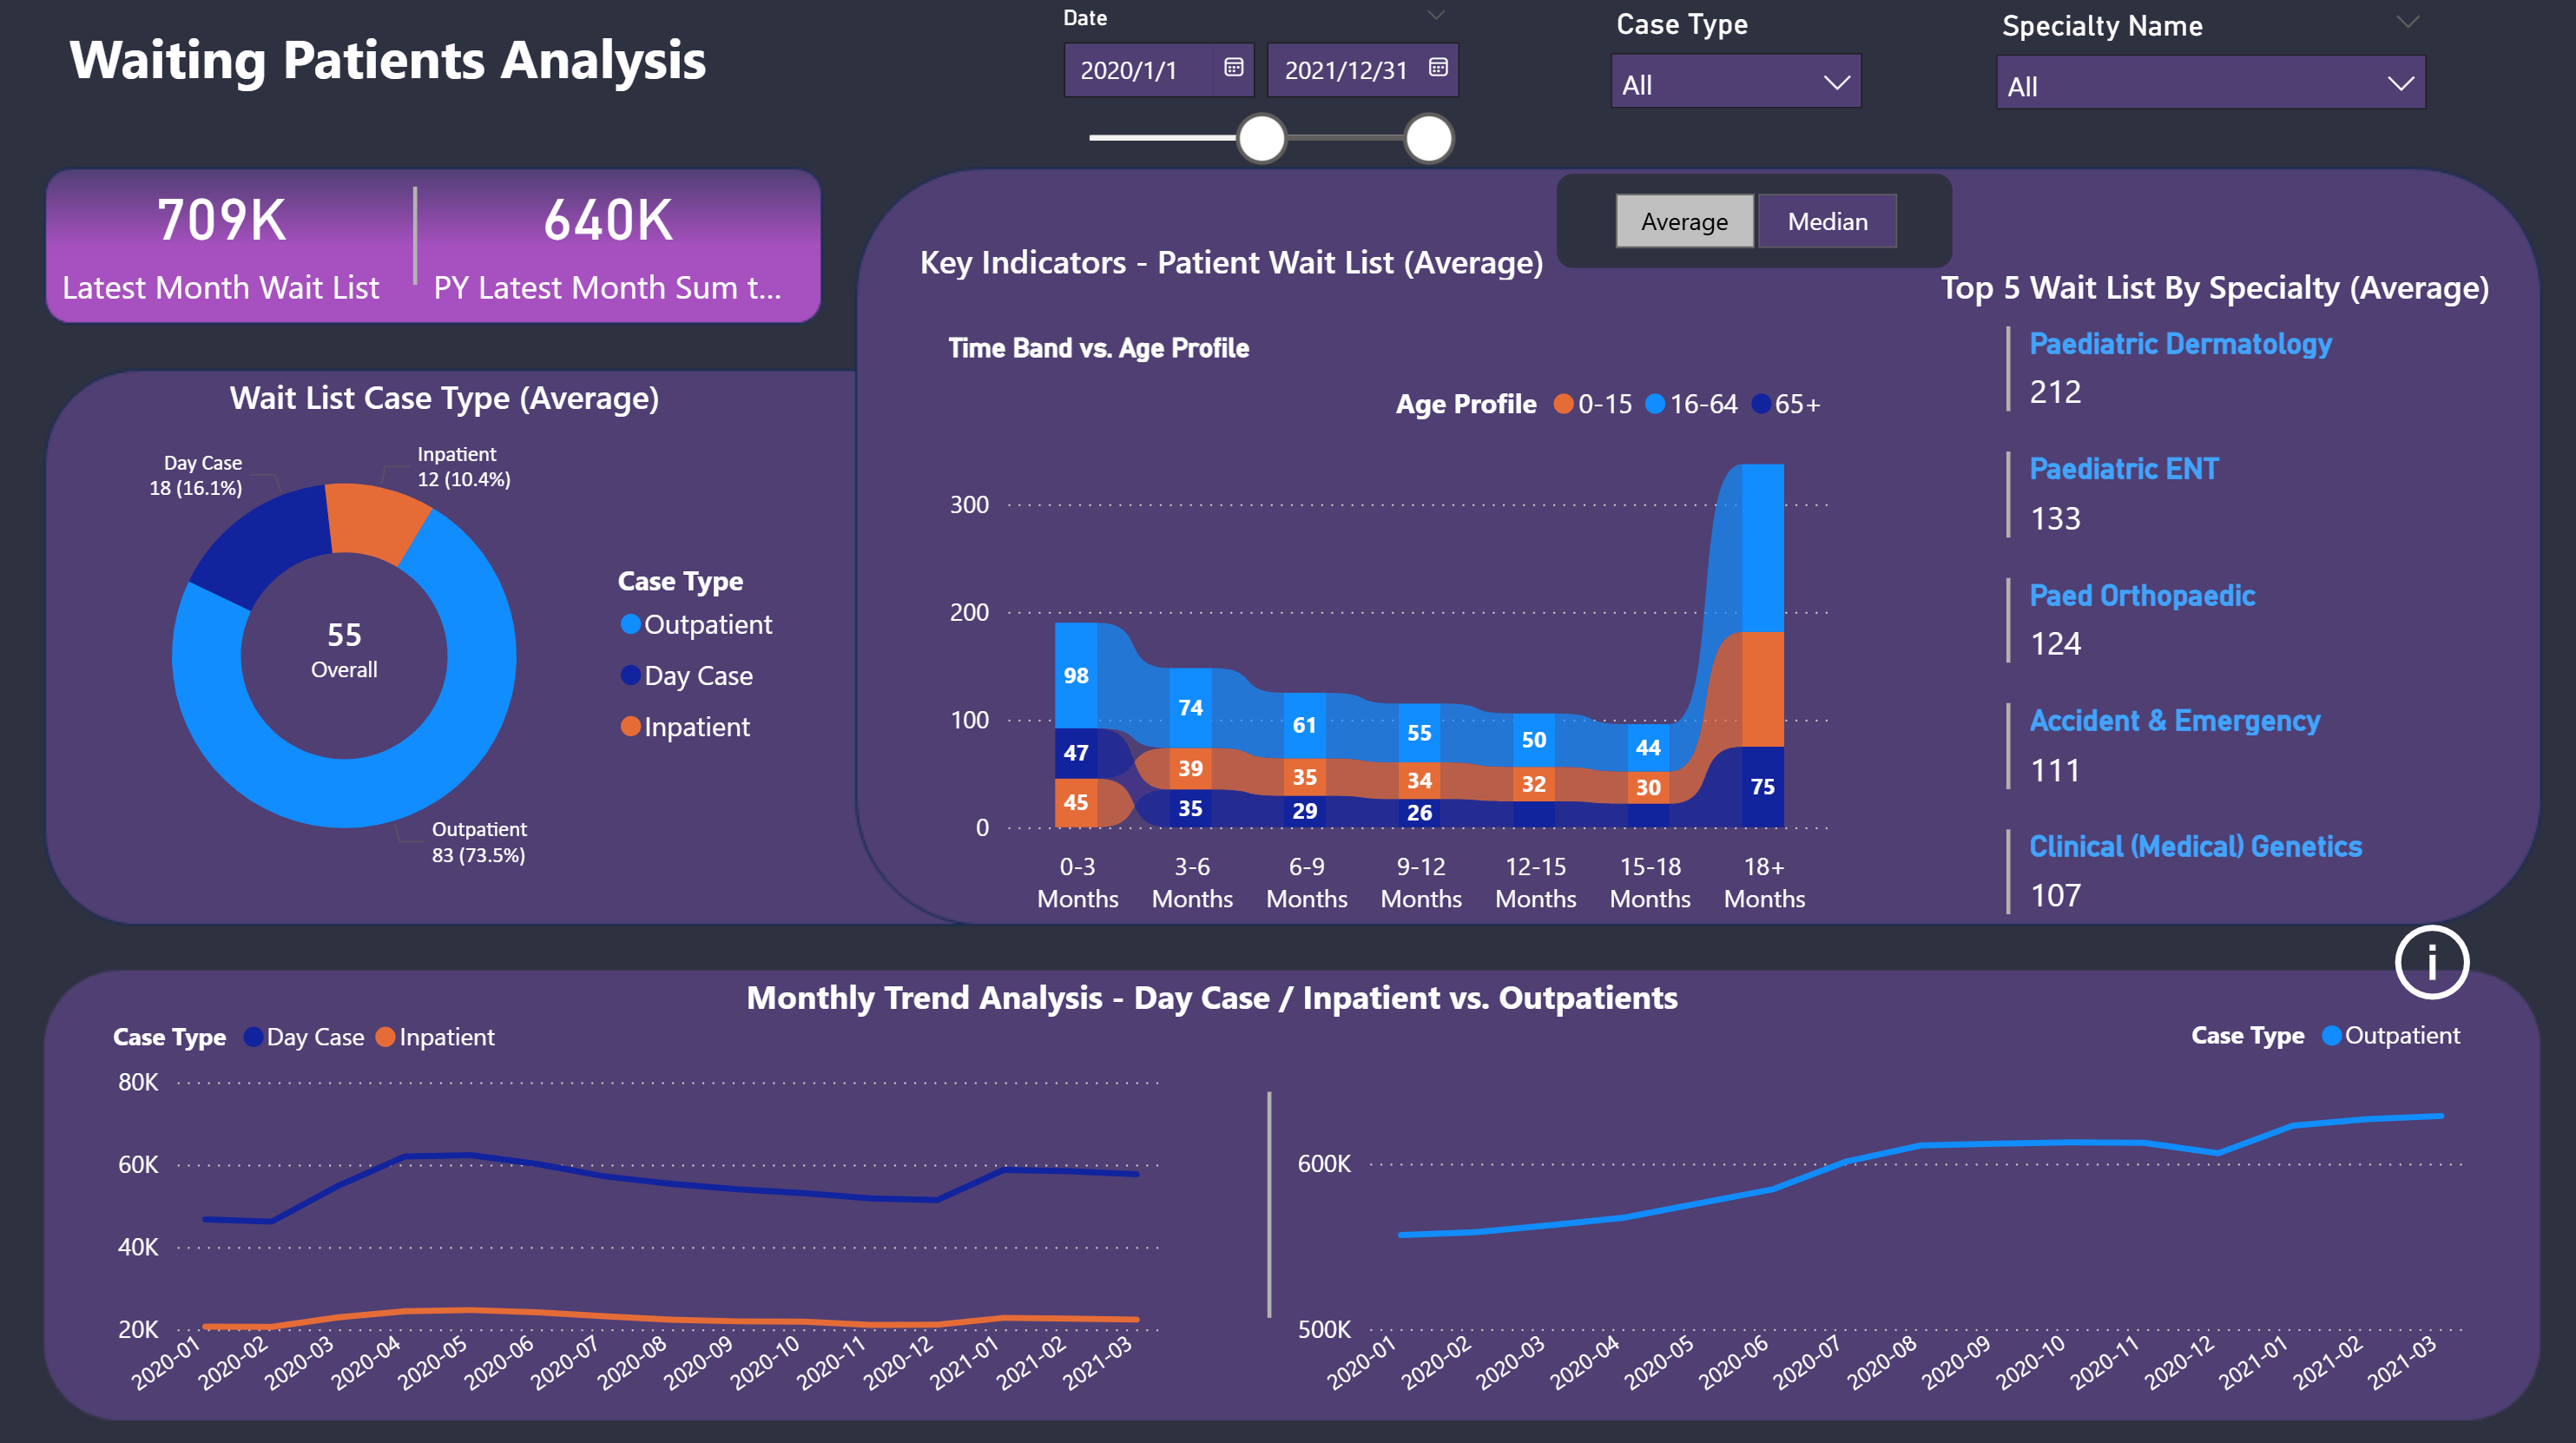

What the dashboard file says about the page in this screenshot:
{"tool":"powerbi","page":{"name":"Summary","canvas":[1280,720],"ordinal":0},"visuals":[{"type":"card","fields":{"Values":["All_Data.Latest Full Month Sum"]},"box":[16,64,192,112],"z":0},{"type":"card","fields":{"Values":["Measures Table.PY Latest Month Sum to Date"]},"box":[208,64,192,112],"z":1000},{"type":"slicer","fields":{"Values":["Calc Methods.Column1"]},"box":[772.5,87.3,199.9,50.4],"z":2000},{"type":"donutChart","fields":{"Category":["All_Data.Case_Type"],"Y":["Measures Table.Avg/Med Wait List"]},"box":[32,192,368,272],"z":3000},{"type":"ribbonChart","title":"Time Band vs. Age Profile","fields":{"Y":["Measures Table.Avg/Med Wait List"],"Series":["All_Data.Age_Profile"],"Category":["All_Data.Time_Bands"]},"box":[468,167.9,448.4,295.8],"z":4000},{"type":"multiRowCard","fields":{"Values":["Measures Table.Avg/Med Wait List","All_Data.Specialty_Name"]},"box":[992.1,159.3,240.5,330.3],"z":5000},{"type":"card","fields":{"Values":["Measures Table.NoDataLeft"]},"box":[128,560,384,64],"z":6000},{"type":"lineChart","fields":{"Y":["Sum(All_Data.Total)"],"Series":["All_Data.Case_Type"],"Category":["DateTable.YearMonth"]},"box":[54.5,496.7,530,207.4],"z":7000},{"type":"card","fields":{"Values":["Measures Table.NoDataRight"]},"box":[736,560,384,64],"z":8000},{"type":"lineChart","fields":{"Y":["Sum(All_Data.Total)"],"Series":["All_Data.Case_Type"],"Category":["DateTable.YearMonth"]},"box":[640,496,592,208],"z":9000},{"type":"slicer","fields":{"Values":["DateTable.Date"]},"box":[516.6,0,215.3,95.9],"z":10000},{"type":"slicer","fields":{"Values":["All_Data.Case_Type"]},"box":[791.5,1.3,144.6,64.6],"z":11000},{"type":"slicer","fields":{"Values":["All_Data.Specialty_Name"]},"box":[982.2,1.8,233.1,64],"z":12000},{"type":"textbox","box":[32,8,343.8,51],"z":13000},{"type":"cardVisual","fields":{"Data":["Measures Table.Avg/Med Wait List"]},"box":[127.9,287.8,92.3,72],"z":14000},{"type":"shape","box":[112.7,95.8,191.6,48.8],"z":15000},{"type":"cardVisual","fields":{"Data":["Measures Table.Dynamic Title"]},"box":[429.9,102.7,370.9,56.6],"z":16000},{"type":"textbox","box":[368,480,592,32],"z":17000},{"type":"shape","box":[624,544,16,112],"z":18000},{"type":"actionButton","box":[1184.1,455.8,48.5,48.5],"z":19000},{"type":"cardVisual","fields":{"Data":["Measures Table.Dynamic Title Specliaty"]},"box":[936.1,112.6,342.6,62.1],"z":20000},{"type":"cardVisual","fields":{"Data":["Measures Table.Dynamic Title Case Type"]},"box":[88,167.9,335.8,60.9],"z":21000}]}

Visuals, with their boxes in screenshot pixels (x1, y1, x2, y2), scaled from the page's 1280x720 canvas onto the 2576x1443 screenshot:
card - All_Data.Latest Full Month Sum: box(32, 128, 418, 353)
card - Measures Table.PY Latest Month Sum to Date: box(418, 128, 805, 353)
slicer - Calc Methods.Column1: box(1555, 175, 1957, 276)
donutChart - All_Data.Case_Type x Measures Table.Avg/Med Wait List: box(64, 385, 805, 930)
"Time Band vs. Age Profile" ribbonChart: box(942, 337, 1844, 929)
multiRowCard - Measures Table.Avg/Med Wait List x All_Data.Specialty_Name: box(1997, 320, 2480, 981)
card - Measures Table.NoDataLeft: box(258, 1123, 1031, 1250)
lineChart - Sum(All_Data.Total) x All_Data.Case_Type: box(109, 996, 1176, 1411)
card - Measures Table.NoDataRight: box(1481, 1123, 2254, 1250)
lineChart - Sum(All_Data.Total) x All_Data.Case_Type: box(1288, 994, 2480, 1411)
slicer - DateTable.Date: box(1039, 0, 1473, 192)
slicer - All_Data.Case_Type: box(1593, 3, 1884, 132)
slicer - All_Data.Specialty_Name: box(1977, 3, 2446, 132)
textbox: box(64, 16, 756, 118)
cardVisual - Measures Table.Avg/Med Wait List: box(257, 577, 443, 721)
shape: box(227, 192, 612, 290)
cardVisual - Measures Table.Dynamic Title: box(865, 206, 1611, 320)
textbox: box(741, 962, 1932, 1026)
shape: box(1255, 1090, 1288, 1315)
actionButton: box(2383, 913, 2480, 1011)
cardVisual - Measures Table.Dynamic Title Specliaty: box(1884, 226, 2573, 350)
cardVisual - Measures Table.Dynamic Title Case Type: box(177, 337, 853, 458)
